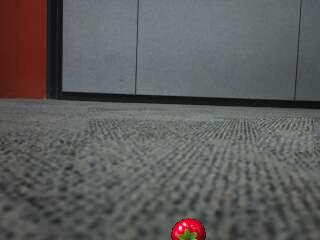Tomato: (170, 218, 208, 239)
